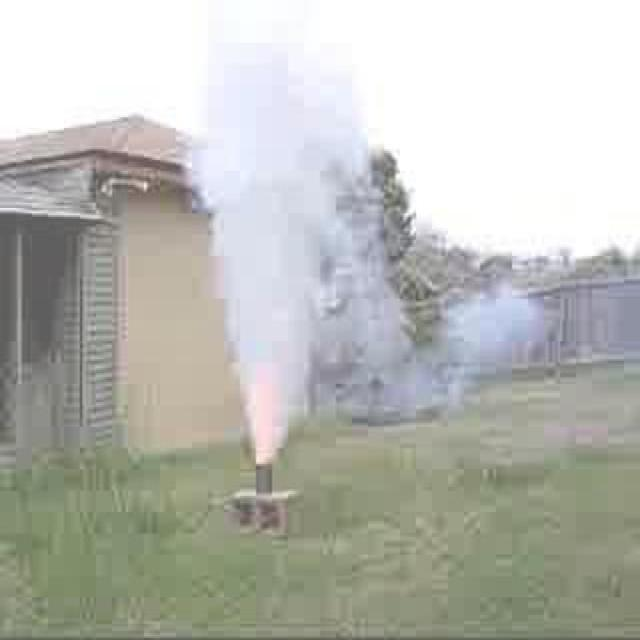Smoke: (181, 39, 562, 466)
